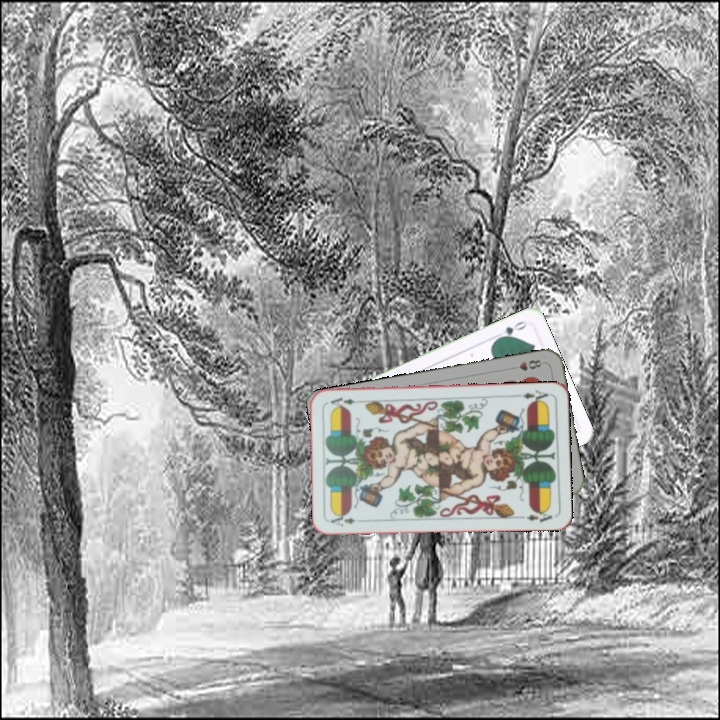EA: (512, 386, 551, 405), (327, 511, 367, 529)
GO: (493, 317, 529, 343)
H8: (506, 356, 544, 373)
